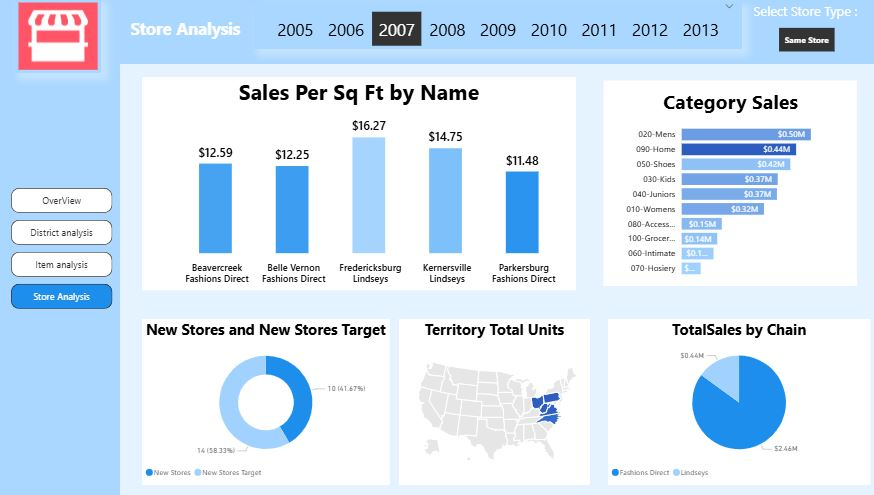

This screenshot's page, from the dashboard's own definition file:
{"tool":"powerbi","page":{"name":"Store Analysis","canvas":[1280,720],"ordinal":3},"visuals":[{"type":"shape","box":[0,0,178.6,1399.7],"z":0},{"type":"shape","box":[178.6,0,1813,93.6],"z":1000},{"type":"card","fields":{"Values":["Sales.TotalSales"]},"box":[931,548.9,230.1,168.1],"z":1000,"group":"g1"},{"type":"donutChart","fields":{"Y":["Store.New Stores","Store.New Stores Target"]},"box":[210.4,461.2,356.7,238.8],"z":2000},{"type":"shapeMap","title":"Territory Total Units","fields":{"Category":["Store.Territory"],"Value":["Sales.TotalUnits"]},"box":[580.6,461.2,274.6,238.8],"z":5000},{"type":"group","id":"g1","title":"Group 2","box":[931,548.9,230.1,168.1],"z":8000},{"type":"clusteredColumnChart","fields":{"Category":["Store.Name"],"Y":["Sales.Sales Per Sq Ft"]},"box":[210.2,112.3,625,306.7],"z":11000},{"type":"textbox","box":[1085.8,0,194.4,38.9],"z":13000},{"type":"slicer","fields":{"Values":["Store.Open Year"]},"box":[371.5,4.3,702.7,67.7],"z":14000},{"type":"slicer","fields":{"Values":["Store.Store Type"]},"box":[1101.5,34.3,129.9,47.8],"z":15000},{"type":"pieChart","fields":{"Y":["KPI's.TotalSales"],"Series":["Store.Chain"]},"box":[880.6,461.2,377.6,238.8],"z":16000},{"type":"image","box":[870.1,111.9,374.6,306],"z":17000},{"type":"clusteredBarChart","title":"Category Sales","fields":{"Category":["Item.Category"],"Y":["Sales.TotalSales"]},"box":[891,128.4,332.8,282.1],"z":18000},{"type":"textbox","box":[188.6,20.2,470.9,80.6],"z":19000},{"type":"pageNavigator","box":[21.6,272.2,146.9,175.7],"z":20000},{"type":"image","box":[27.4,0,123.8,106.6],"z":20001}]}

Visuals, with their boxes on the page's 1280x720 design canvas (x1, y1, x2, y2). These are canvas units, not pixel positions in the 874x495 screenshot, which may show the page scaled, cropped or inside an application window:
shape: region(0, 0, 179, 1400)
shape: region(179, 0, 1992, 94)
card - Sales.TotalSales: region(931, 549, 1161, 717)
donutChart - Store.New Stores x Store.New Stores Target: region(210, 461, 567, 700)
"Territory Total Units" shapeMap: region(581, 461, 855, 700)
"Group 2" group: region(931, 549, 1161, 717)
clusteredColumnChart - Store.Name x Sales.Sales Per Sq Ft: region(210, 112, 835, 419)
textbox: region(1086, 0, 1280, 39)
slicer - Store.Open Year: region(372, 4, 1074, 72)
slicer - Store.Store Type: region(1102, 34, 1231, 82)
pieChart - KPI's.TotalSales x Store.Chain: region(881, 461, 1258, 700)
image: region(870, 112, 1245, 418)
"Category Sales" clusteredBarChart: region(891, 128, 1224, 410)
textbox: region(189, 20, 660, 101)
pageNavigator: region(22, 272, 168, 448)
image: region(27, 0, 151, 107)
